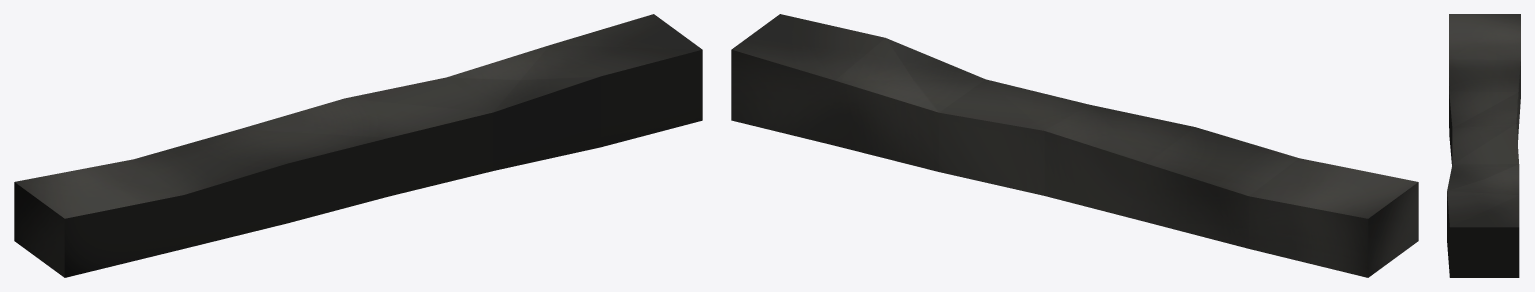
Rendered from Under Pillars  1.fbx.
3 renders of one model, left to right at view 1: azimuth 30°, elevation 25°; view 2: azimuth 150°, elevation 25°; view 3: azimuth 270°, elevation 25°, orthographic. The views are drawn at different scales.
Visible parts, largest first — view 1: Under Pillars 1; view 2: Under Pillars 1; view 3: Under Pillars 1.
Part boxes in pixels (x1,y1,x2,y2): Under Pillars 1: (14,14,702,277); Under Pillars 1: (731,14,1418,277); Under Pillars 1: (1447,14,1520,277).
Bounding box in the file's own units: 272 × 29.29 × 38.09.
1 material, 1 textured.
